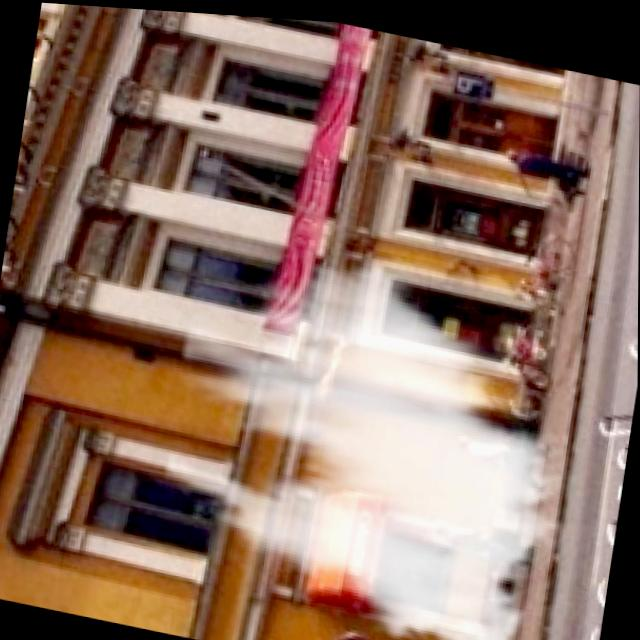no_helmet: (144, 213, 604, 640)
